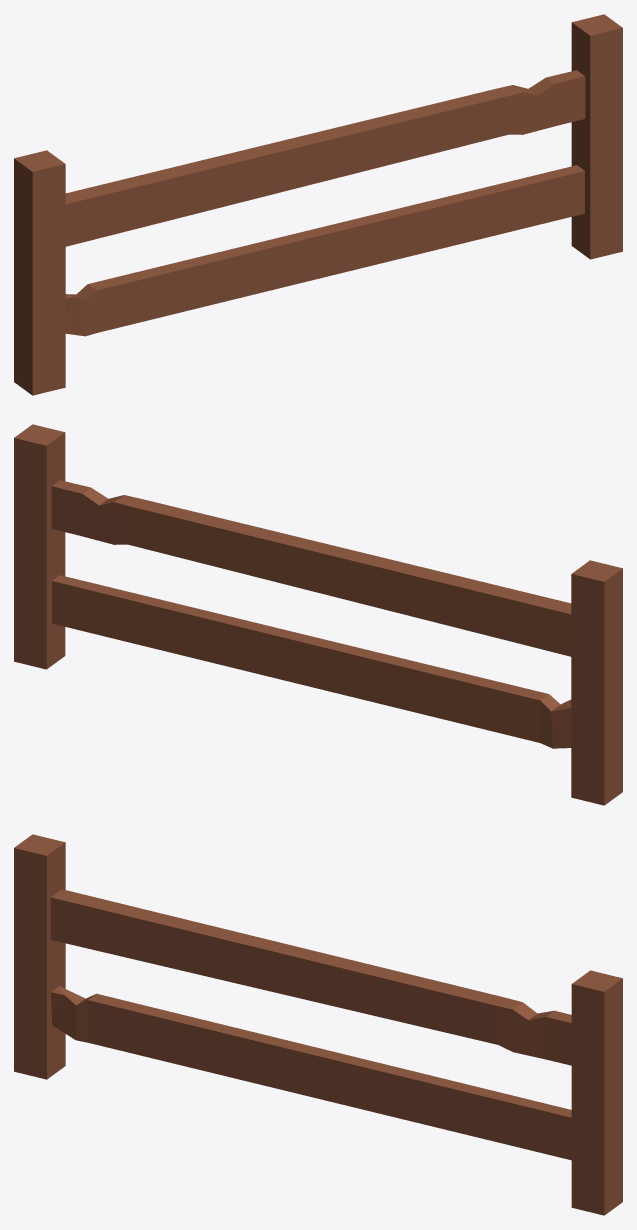
Rendered from fence.glb.
3 renders of one model, top to bottom at view 1: azimuth 30°, elevation 25°; view 2: azimuth 150°, elevation 25°; view 3: azimuth 330°, elevation 25°, orthographic.
Parts seen in each view (by area): view 1: Fence; view 2: Fence; view 3: Fence.
Part boxes in pixels (x1,y1,x2,y2): Fence: (14,14,622,395); Fence: (14,424,622,805); Fence: (14,834,622,1215).
Size of the model in its own units: 3.03 by 1.1 by 0.1655.
